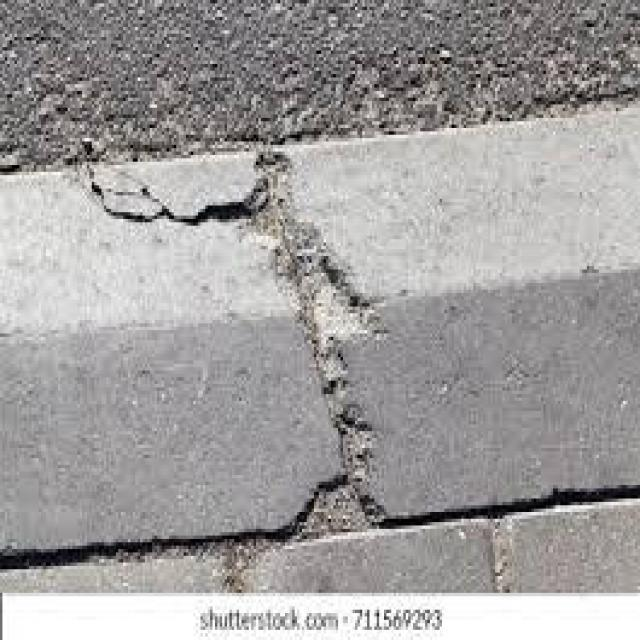curb: (3, 110, 640, 563)
